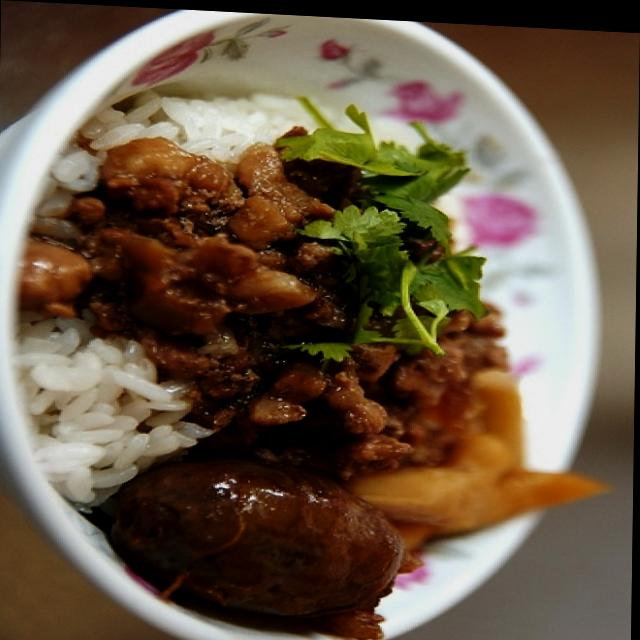猪肉菜式: (6, 21, 583, 639)
